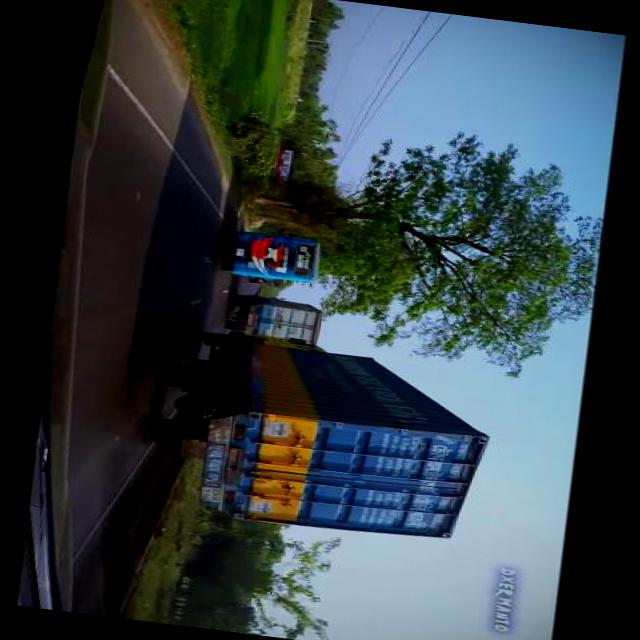bus: (218, 226, 325, 286)
truck: (139, 318, 503, 549), (224, 288, 326, 342)
